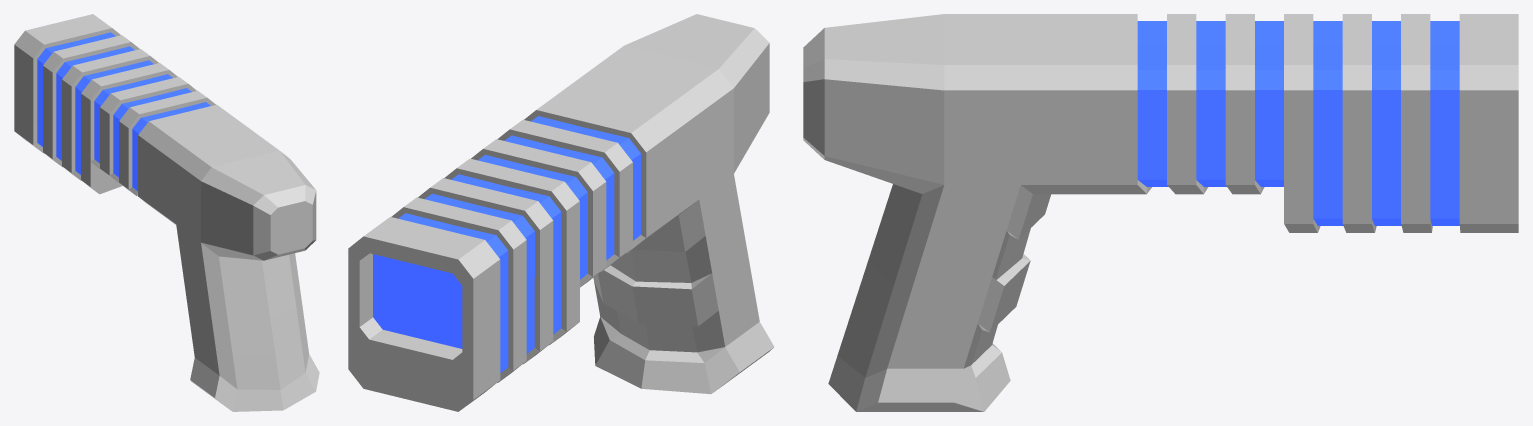
The model's file is Model_OneHanded_Pistol.fbx.
The picture shows the model from 3 angles, left to right: view 1: azimuth 30°, elevation 25°; view 2: azimuth 150°, elevation 25°; view 3: azimuth 270°, elevation 25°; orthographic projection. The views are drawn at different scales.
Visible parts, largest first — view 1: One_Handed_Gun; view 2: One_Handed_Gun; view 3: One_Handed_Gun.
Boxes of the visible parts, x1,y1,x2,y2 form: One_Handed_Gun: [14, 14, 319, 411]; One_Handed_Gun: [348, 14, 774, 411]; One_Handed_Gun: [803, 14, 1518, 411].
Bounding box in the file's own units: 0.0621 × 0.1269 × 0.2389.
